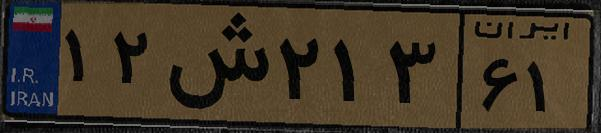1: (330, 28, 385, 110), (57, 26, 110, 100), (525, 38, 570, 115)
2: (270, 28, 330, 110), (110, 28, 158, 98)
3: (385, 28, 445, 110)
6: (475, 38, 525, 113)
ش: (158, 12, 270, 120)
